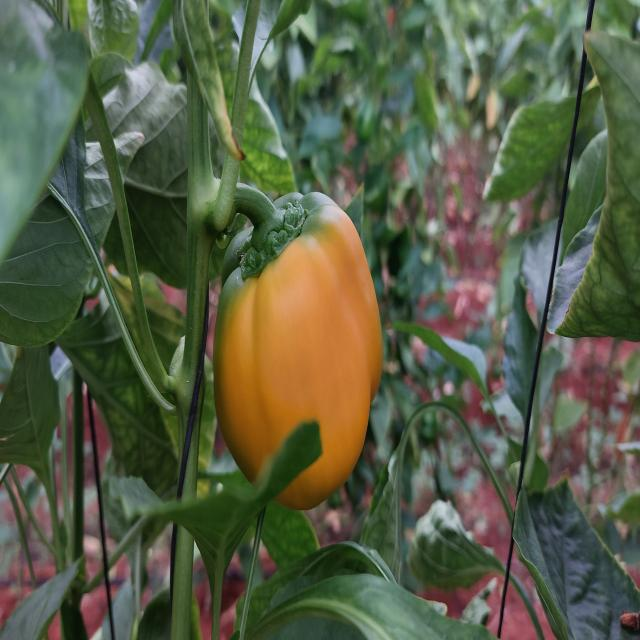Yellow-Ready-to-Harvest: (222, 199, 384, 508)
